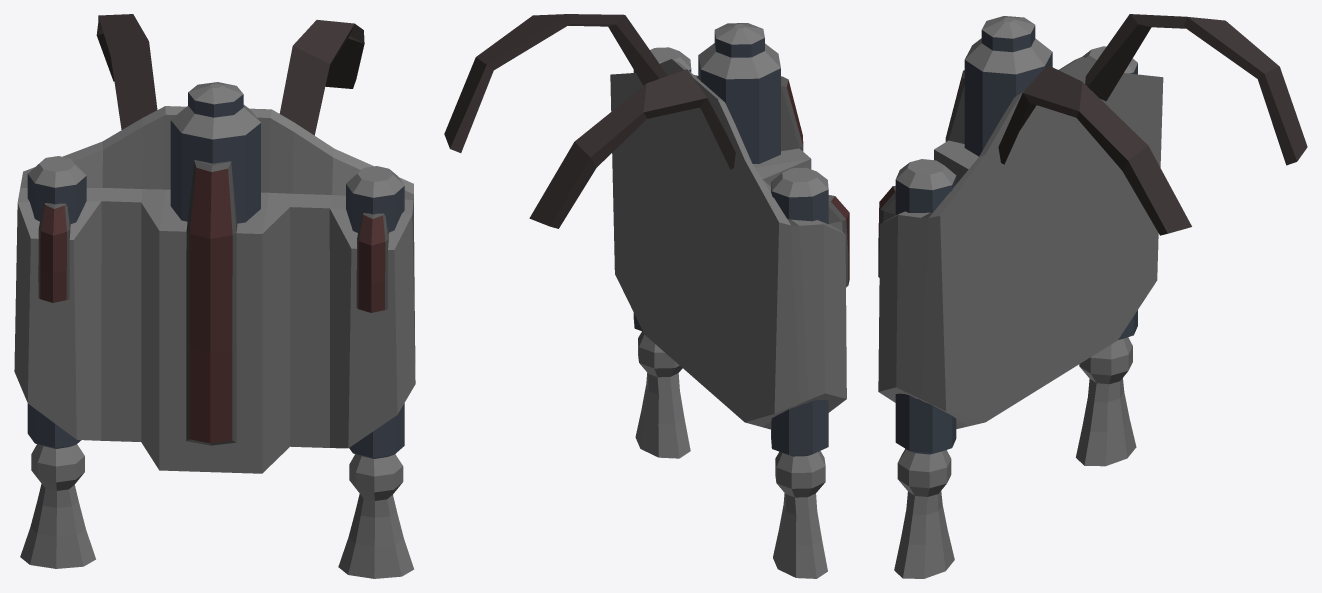
File: jetpack.fbx
3 views of the same model, side by side, from view 1: azimuth 30°, elevation 25°; view 2: azimuth 150°, elevation 25°; view 3: azimuth 270°, elevation 25° (orthographic). The views are drawn at different scales.
Parts seen in each view (by area): view 1: Jetpackk; view 2: Jetpackk; view 3: Jetpackk.
Part boxes in pixels (box(x1,y1,x2,y2)): Jetpackk: box(14, 14, 415, 578); Jetpackk: box(444, 14, 849, 578); Jetpackk: box(878, 14, 1307, 578).
Size of the model in its own units: 0.4206 by 0.5324 by 0.4207.
